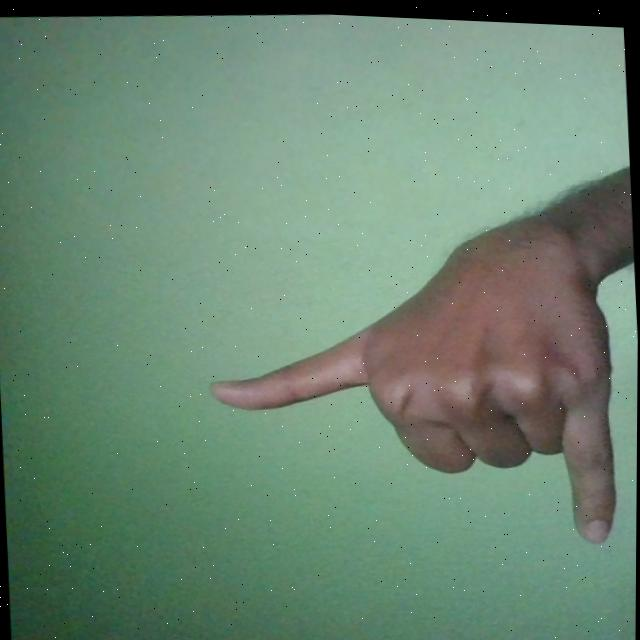Call Me: (198, 188, 621, 558)
